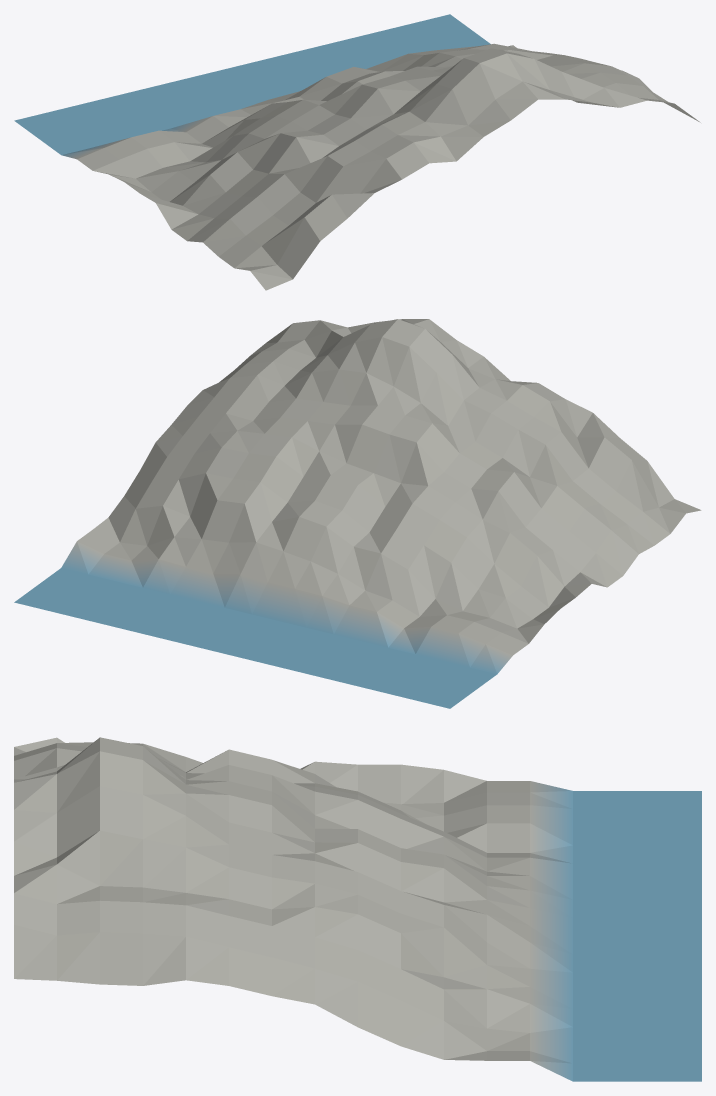
3 views of the same model, one above another, from view 1: azimuth 30°, elevation 25°; view 2: azimuth 150°, elevation 25°; view 3: azimuth 270°, elevation 25° (orthographic). The views are drawn at different scales.
Size of the model in its own units: 32 by 11.36 by 32.
